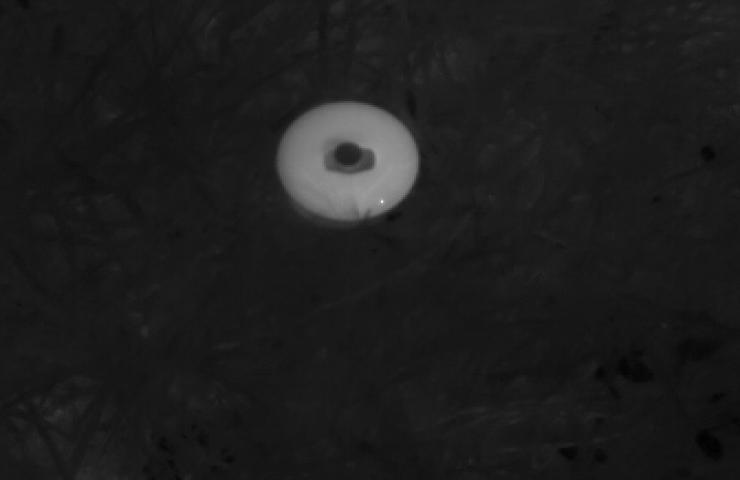landmines: (266, 97, 427, 230)
